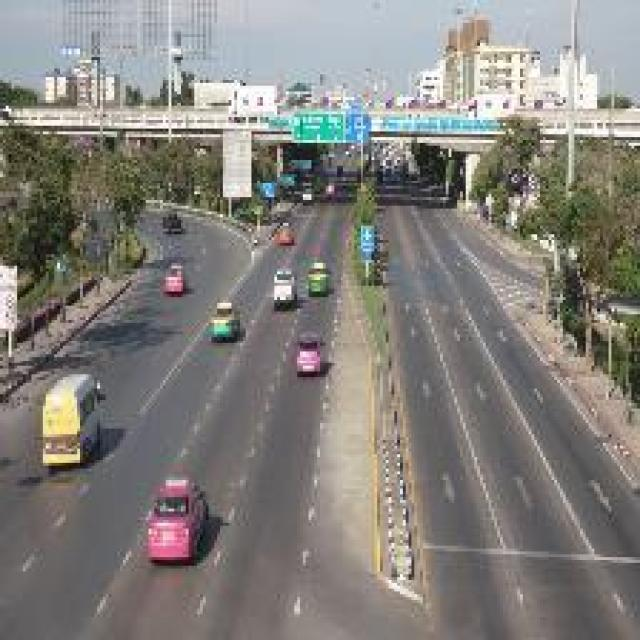other: (34, 368, 110, 466)
